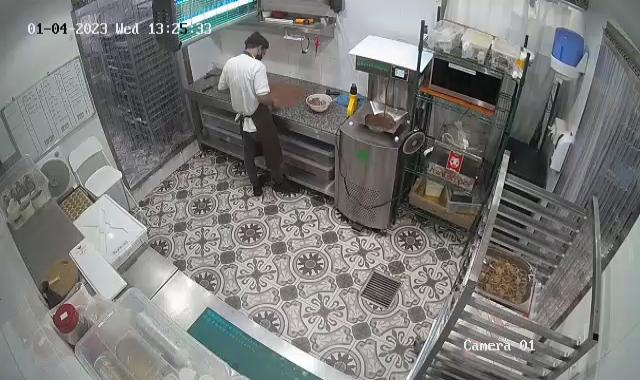no_hairnet: (242, 28, 268, 52)
